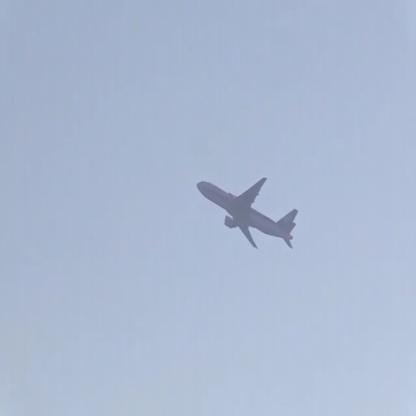CIV_Plane: (196, 176, 299, 250)
